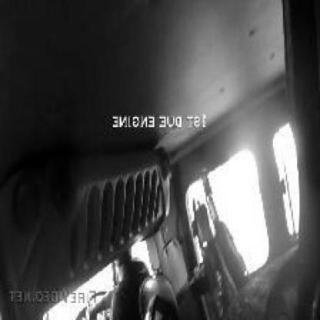other: (221, 147, 257, 247)
